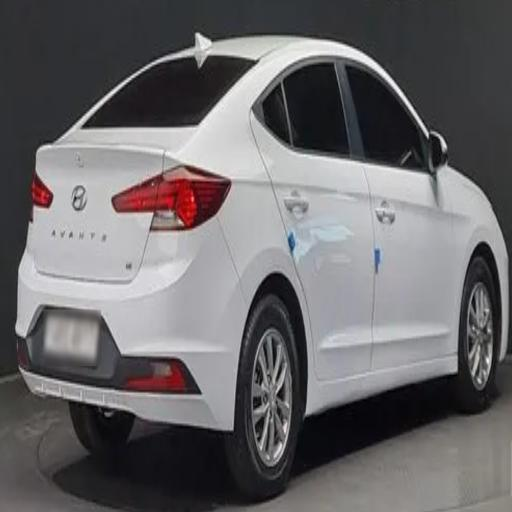scratch: (275, 160, 373, 296)
